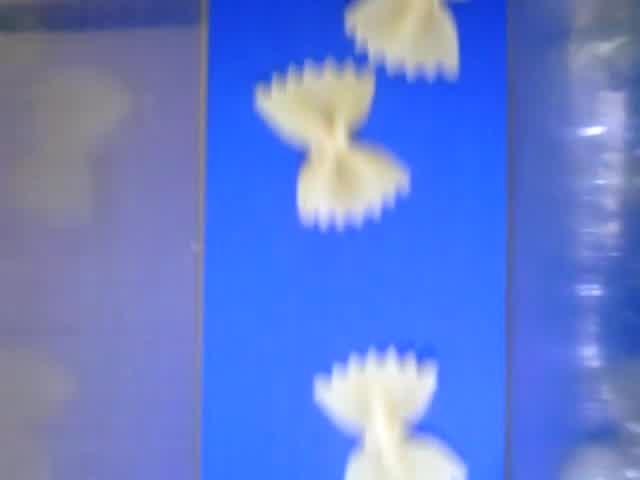farfalle: (251, 58, 414, 230), (313, 347, 466, 480), (342, 1, 461, 79)
